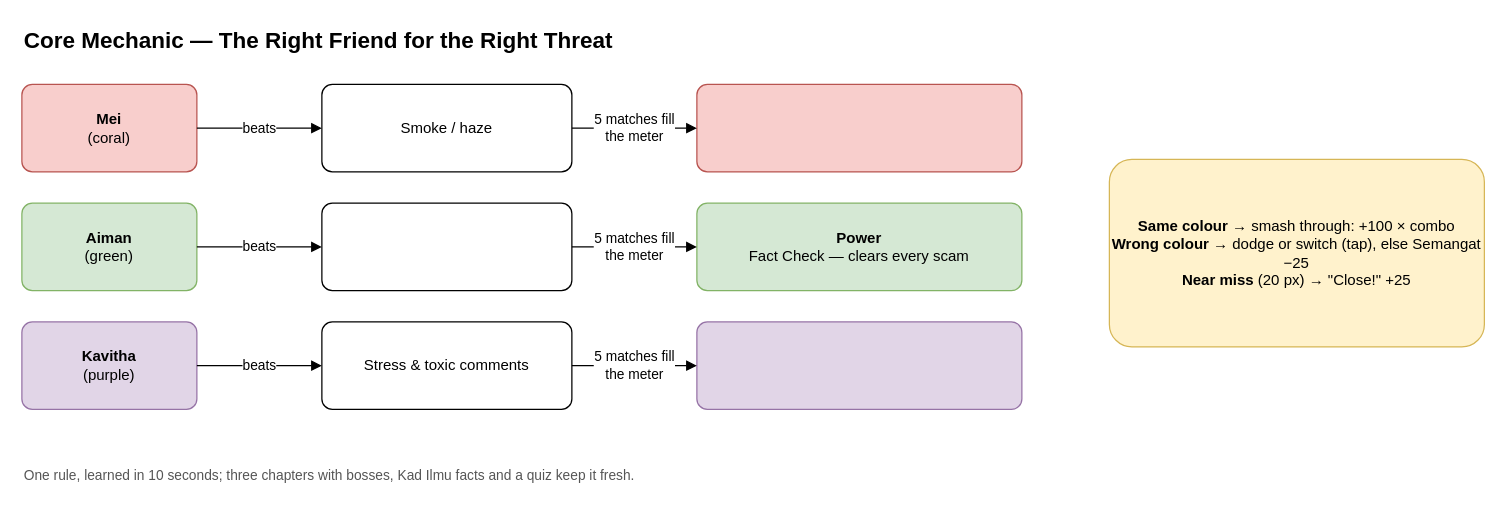
The diagram is 1506 pixels wide and 511 high, and some of its shapes have lost their labels. Here are the shapes that lost their labels. From the top down, the box of each, then its label:
(696, 83, 1022, 172): Power Air Shield — clears smoke, 3 s shield
(321, 202, 572, 291): Scams & fake rumours
(696, 321, 1022, 409): Power Calm Mode — half speed 4 s, refill spirit
